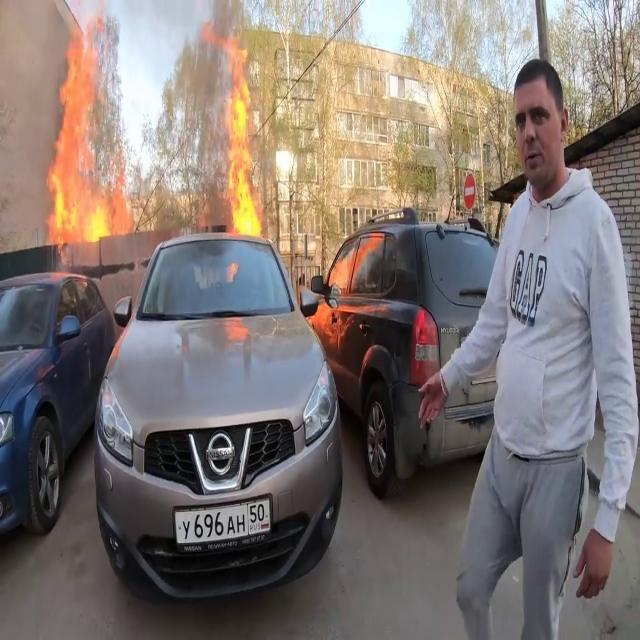Fire: (40, 16, 134, 250), (218, 38, 266, 238)
Smoke: (0, 0, 53, 234)
